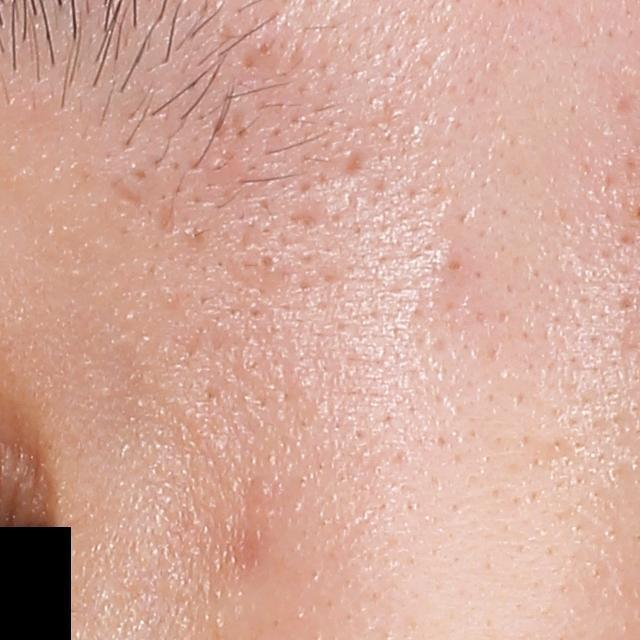atrophic_scar: (108, 176, 151, 209), (155, 194, 179, 245), (344, 145, 367, 176)
comedo: (254, 249, 282, 278), (249, 35, 278, 58), (444, 253, 466, 277)
